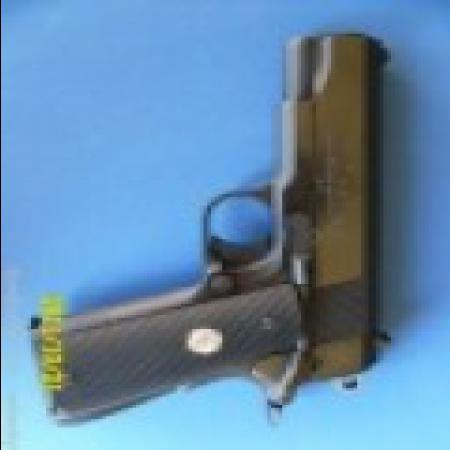Pistol: (34, 23, 405, 433)
